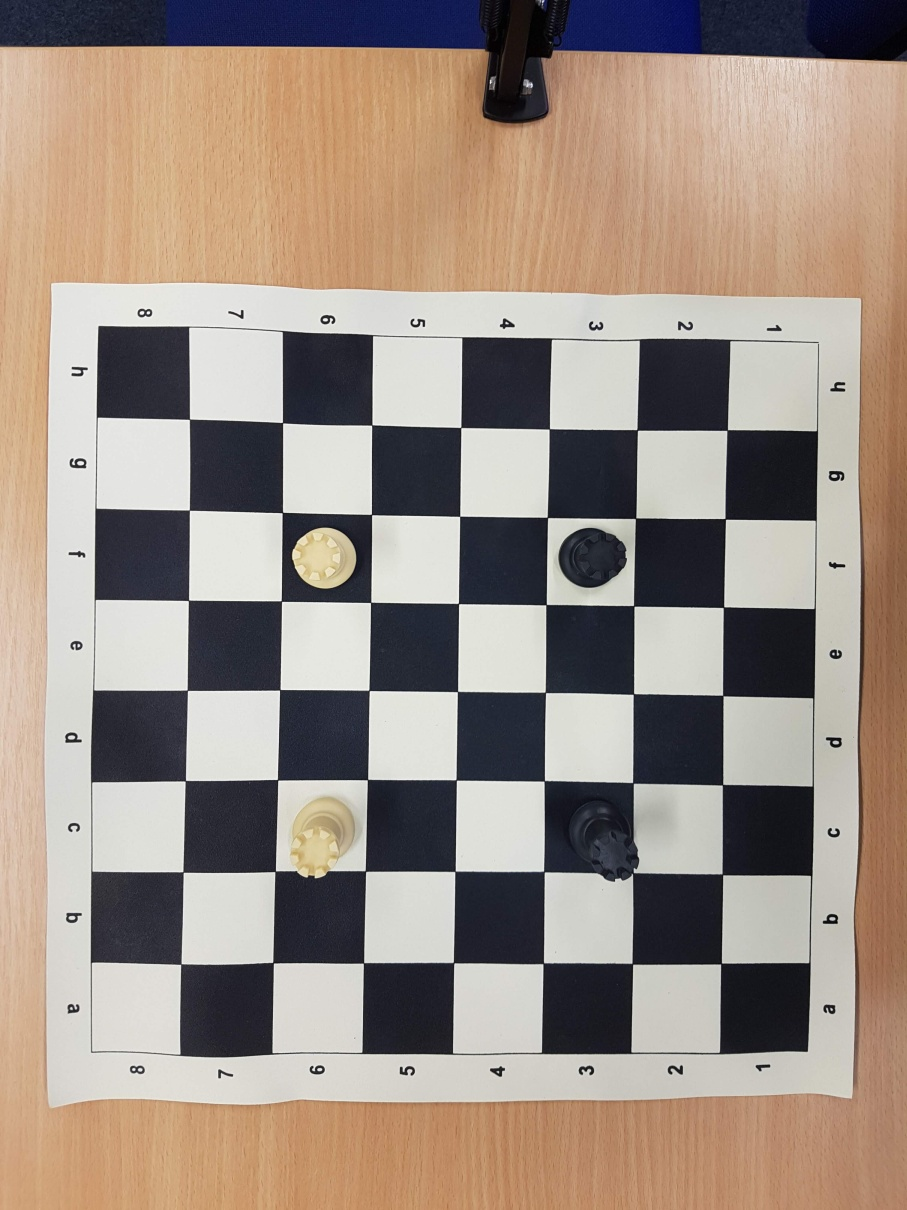chess_rook: (567, 799, 639, 881), (291, 796, 356, 877), (557, 527, 626, 588), (290, 526, 358, 587)
